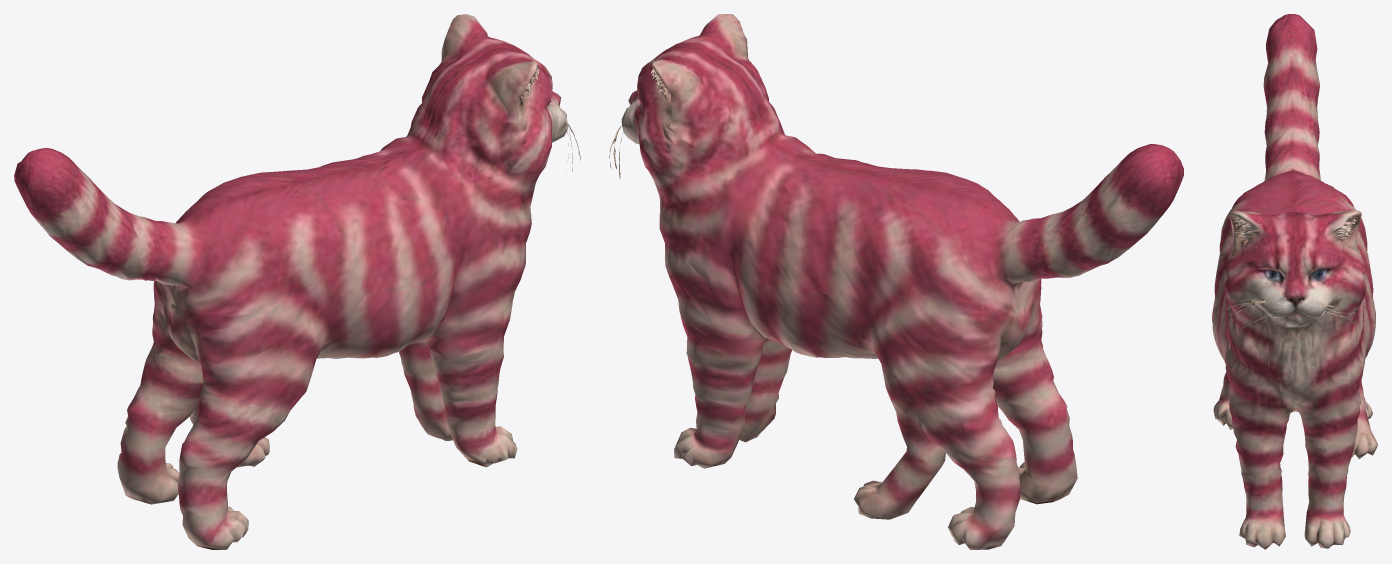
File: SAGGYCAT-lo.glb
The picture shows the model from 3 angles, left to right: view 1: azimuth 30°, elevation 25°; view 2: azimuth 150°, elevation 25°; view 3: azimuth 270°, elevation 25°; orthographic projection. The views are drawn at different scales.
Parts seen in each view (by area): view 1: tripo_node_270b577a-2f4c-45da-b64a-4f3e0c43758b; view 2: tripo_node_270b577a-2f4c-45da-b64a-4f3e0c43758b; view 3: tripo_node_270b577a-2f4c-45da-b64a-4f3e0c43758b.
Part boxes in pixels (x1,y1,x2,y2): tripo_node_270b577a-2f4c-45da-b64a-4f3e0c43758b: (14,14,580,549); tripo_node_270b577a-2f4c-45da-b64a-4f3e0c43758b: (609,14,1183,549); tripo_node_270b577a-2f4c-45da-b64a-4f3e0c43758b: (1212,14,1377,549).
Size of the model in its own units: 1.4 by 0.9976 by 0.4329.
Materials: 1 (1 with a texture image).
